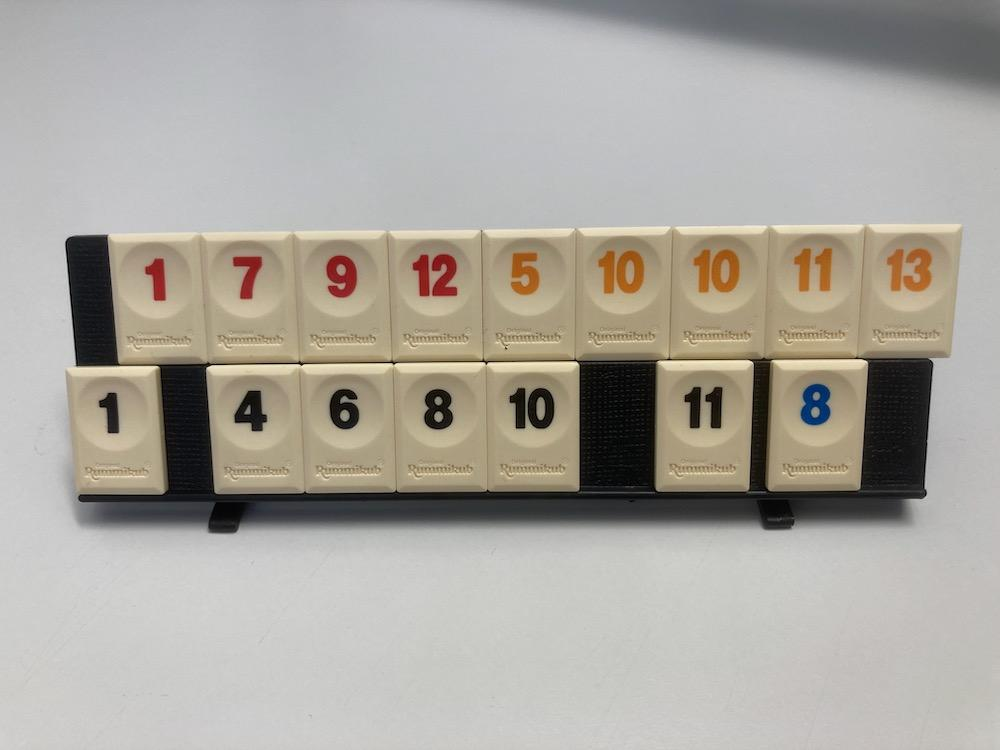black_1: (66, 365, 164, 494)
black_10: (488, 361, 580, 492)
black_11: (656, 359, 754, 492)
black_4: (208, 366, 304, 492)
black_6: (301, 365, 396, 492)
black_8: (395, 366, 488, 492)
blue_8: (766, 359, 867, 492)
orange_10: (670, 227, 768, 358), (576, 229, 672, 359)
orange_11: (766, 227, 863, 357)
orange_13: (859, 225, 963, 357)
orange_5: (484, 229, 574, 359)
red_1: (109, 235, 206, 363)
red_12: (390, 232, 480, 361)
red_7: (202, 234, 298, 361)
red_9: (296, 232, 390, 361)
